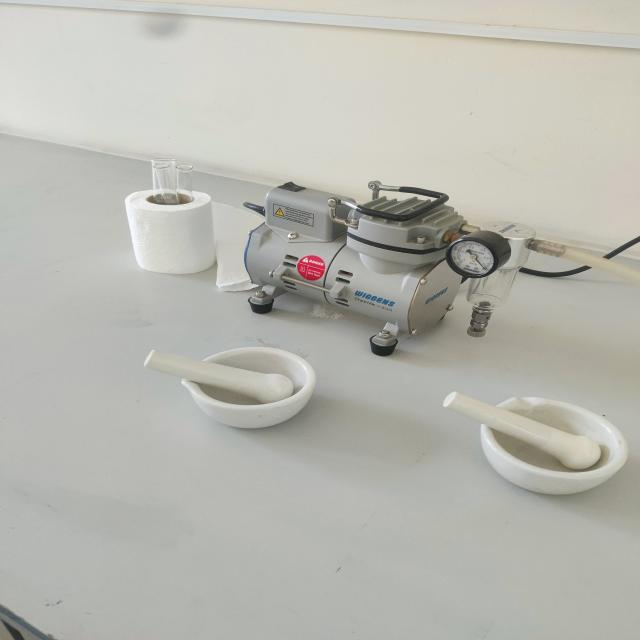Porcelain_Mortar Pestle: (410, 357, 640, 522), (135, 323, 336, 449)
